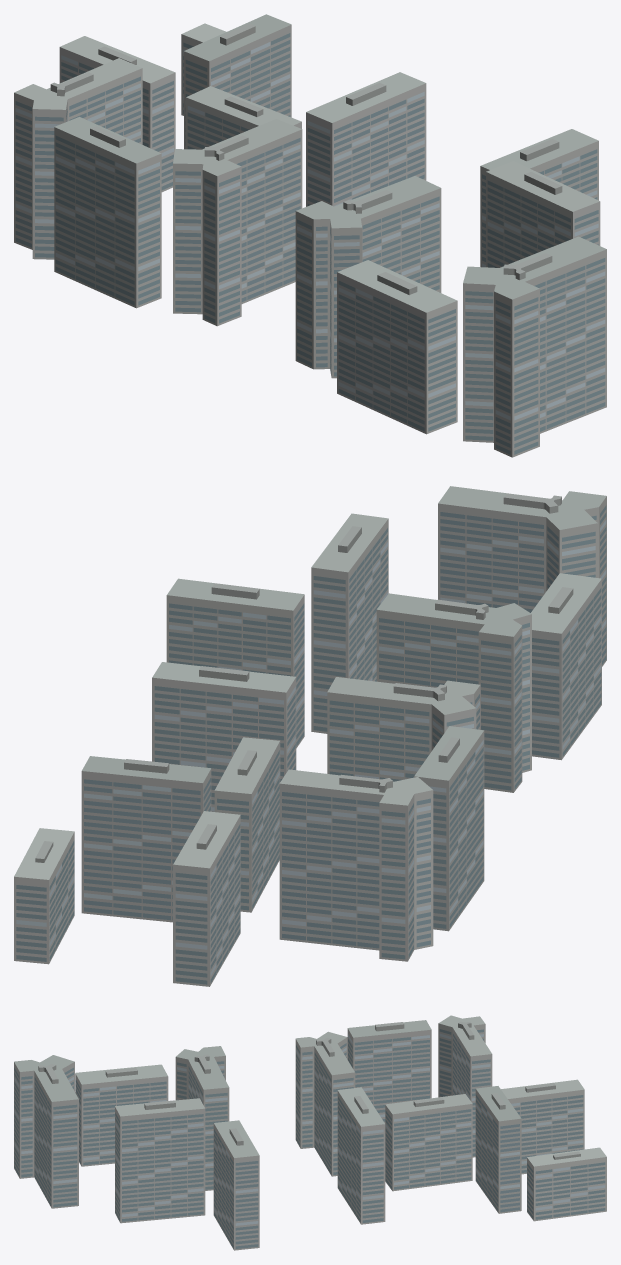
File: apt-a13611202.glb
3 renders of one model, top to bottom at view 1: azimuth 30°, elevation 25°; view 2: azimuth 150°, elevation 25°; view 3: azimuth 270°, elevation 25°, orthographic. The views are drawn at different scales.
Parts seen in each view (by area): view 1: apt-a13611202; view 2: apt-a13611202; view 3: apt-a13611202.
Boxes of the visible parts, <box> form: apt-a13611202: <box>14,14,606,457</box>; apt-a13611202: <box>14,486,606,986</box>; apt-a13611202: <box>14,1015,606,1250</box>.
Size of the model in its own units: 160 by 62 by 300.
